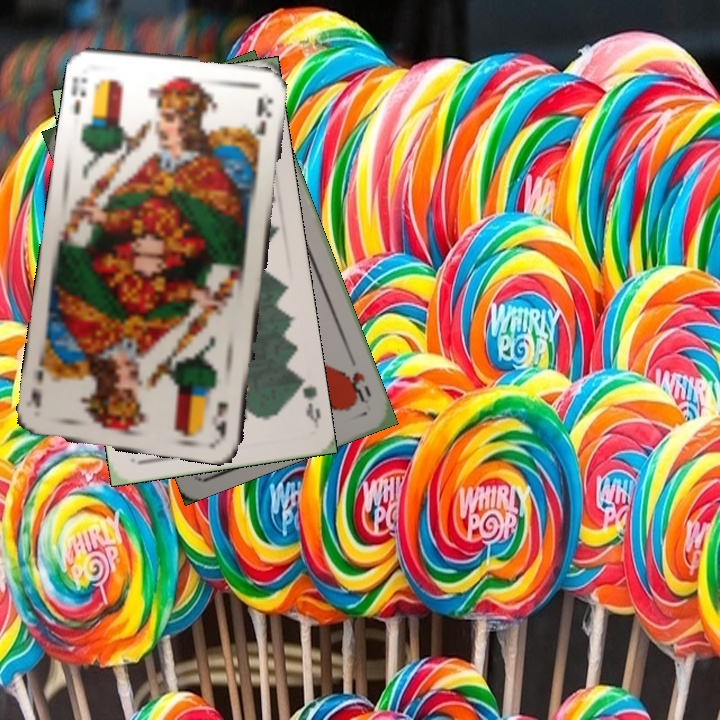EK: (69, 73, 90, 118), (211, 397, 231, 439)
G9: (292, 372, 323, 429)
HO: (340, 350, 374, 407)
